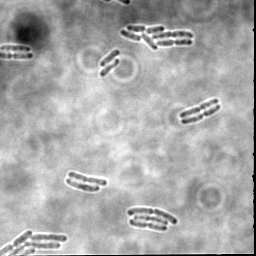Dividing: (126, 205, 178, 225), (178, 96, 220, 120), (180, 104, 222, 125), (67, 170, 108, 187), (64, 176, 101, 193), (127, 219, 168, 234), (131, 213, 169, 226), (1, 51, 35, 61)
Microcolony: (119, 23, 196, 51), (1, 231, 69, 255)
Rod: (98, 57, 121, 78), (98, 48, 122, 68), (1, 43, 32, 53)
